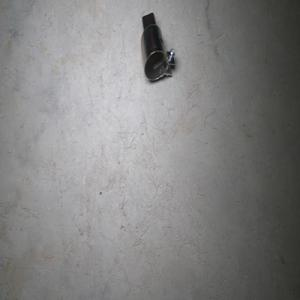MetalPart: (140, 11, 175, 81)
